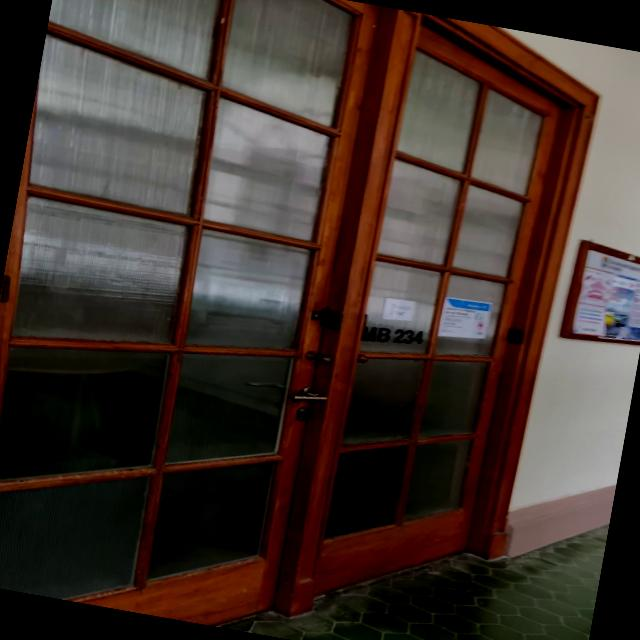room234Window: (355, 316, 429, 354)
